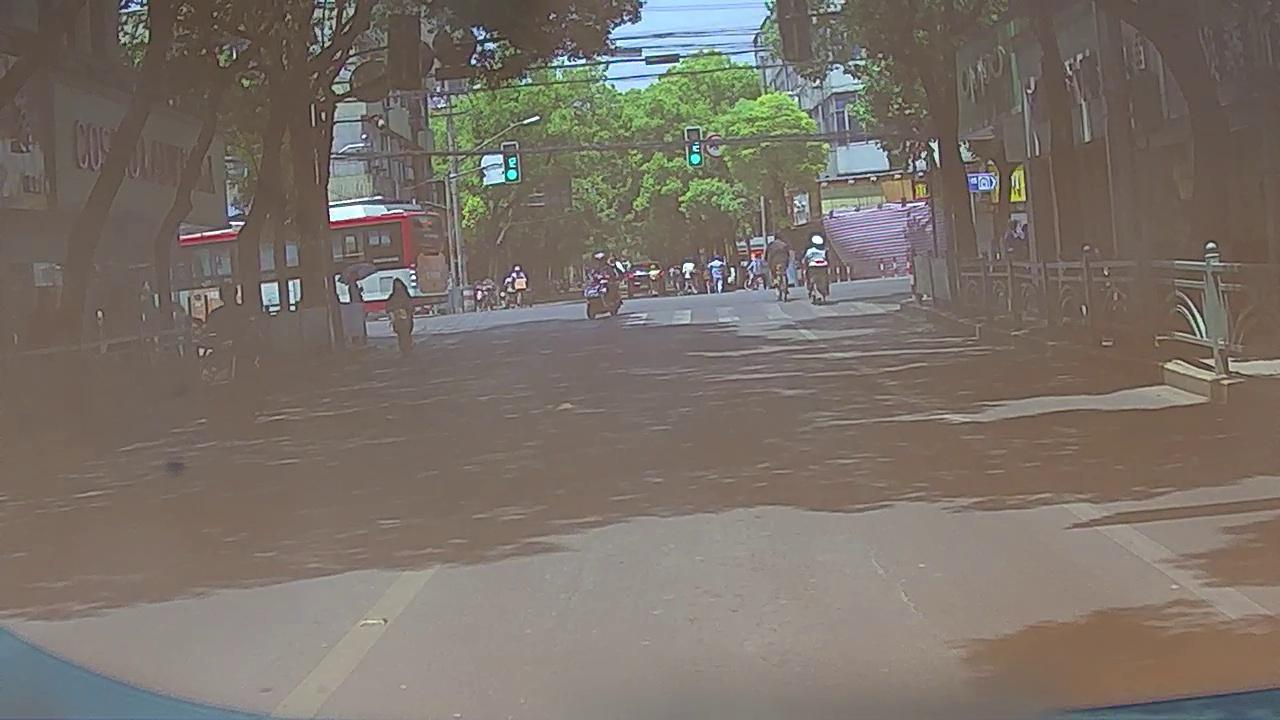traffic_light: (686, 128, 703, 166), (503, 143, 519, 182)
